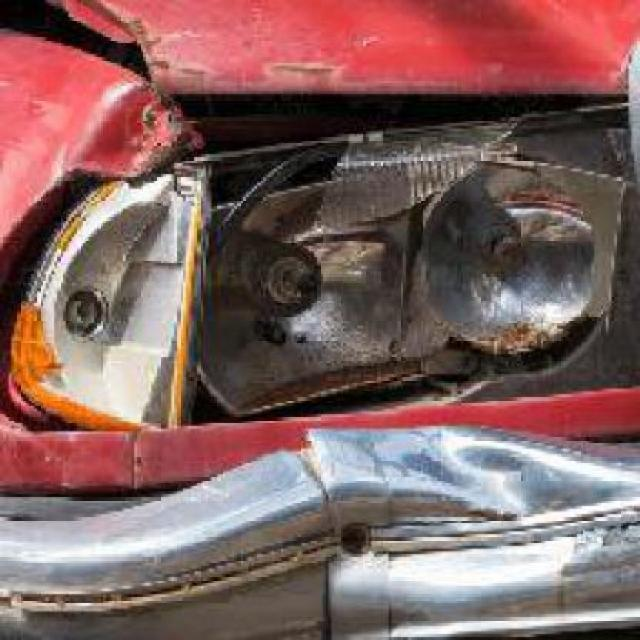damaged-head-light: (20, 106, 637, 426)
